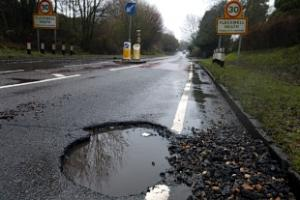pothole: (57, 110, 183, 197)
